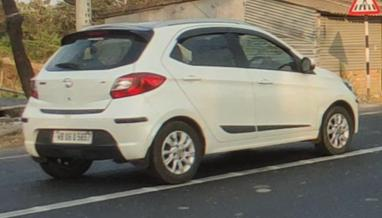Car: (20, 19, 360, 185)
